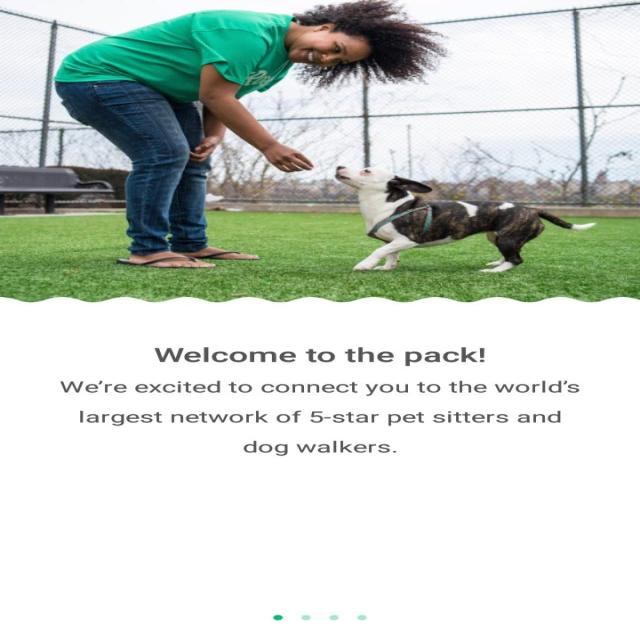Image: (0, 0, 639, 303)
Text: (59, 380, 580, 456), (153, 347, 484, 366)
